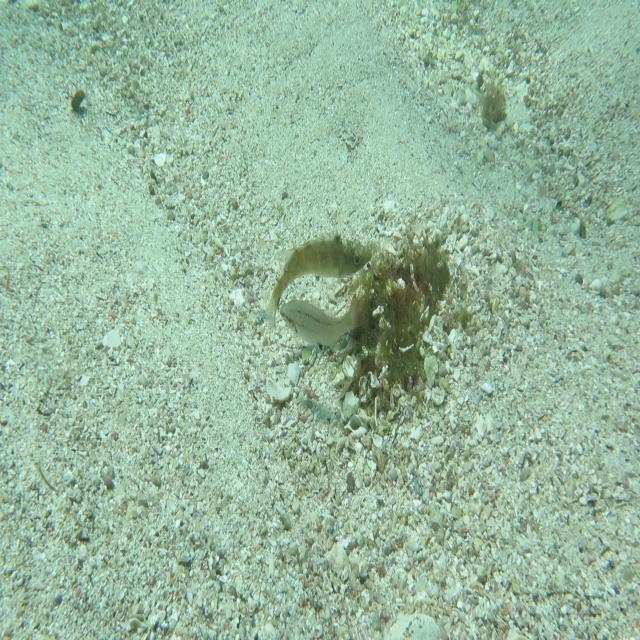DAN_CIRC: (262, 220, 373, 333)
female: (280, 289, 370, 354)
nest: (326, 215, 464, 431)
